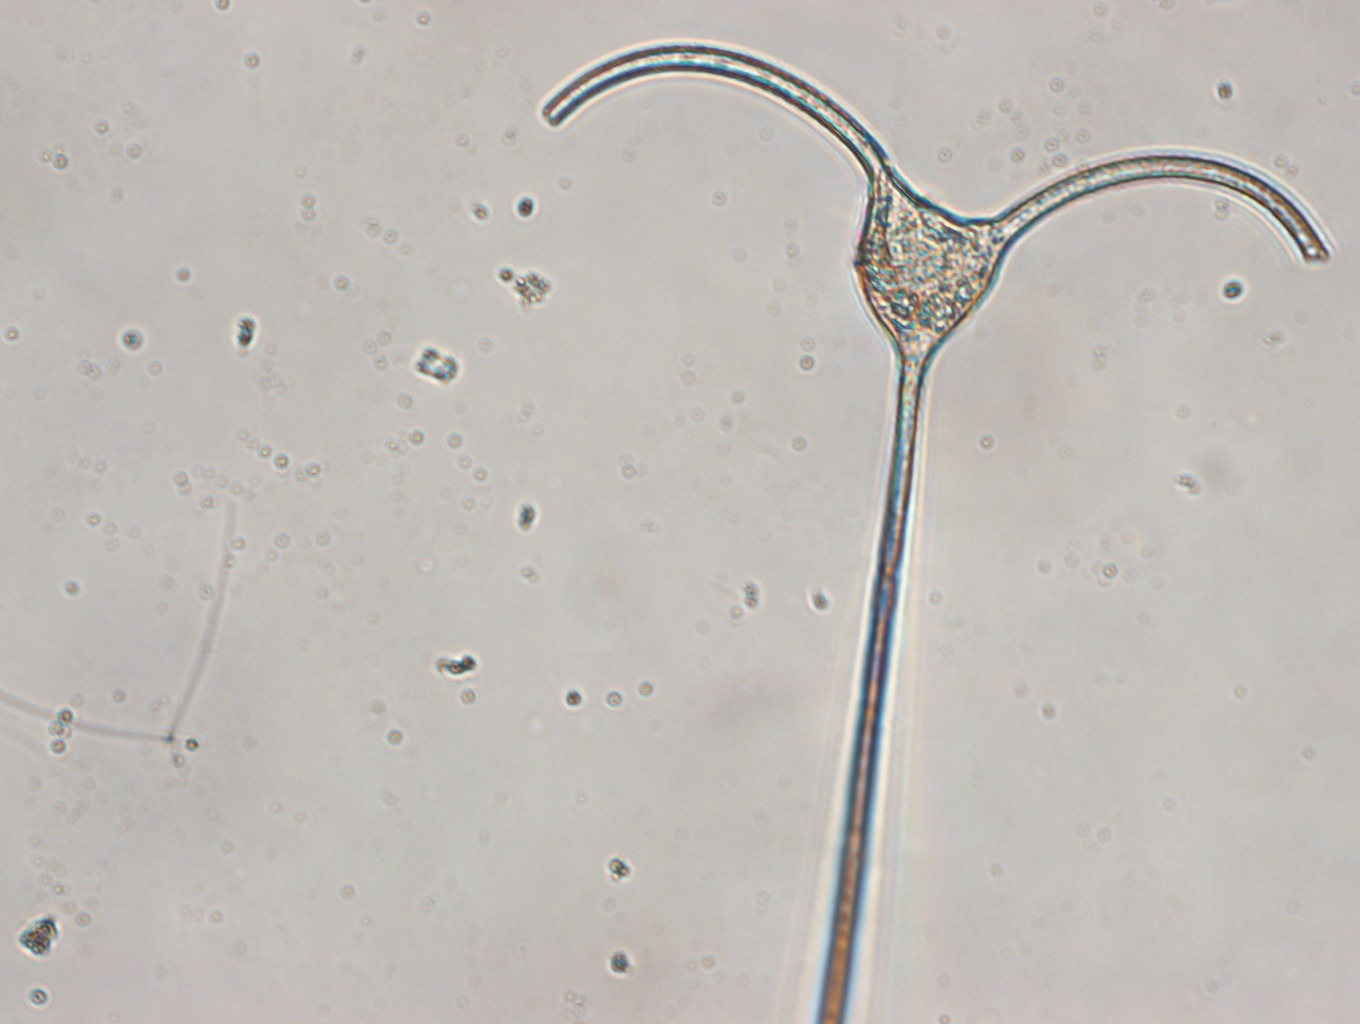ceratium trichoceros: (540, 33, 1336, 1024)
